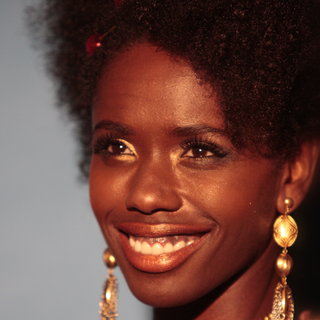eye: (179, 139, 227, 165), (94, 135, 136, 162)
